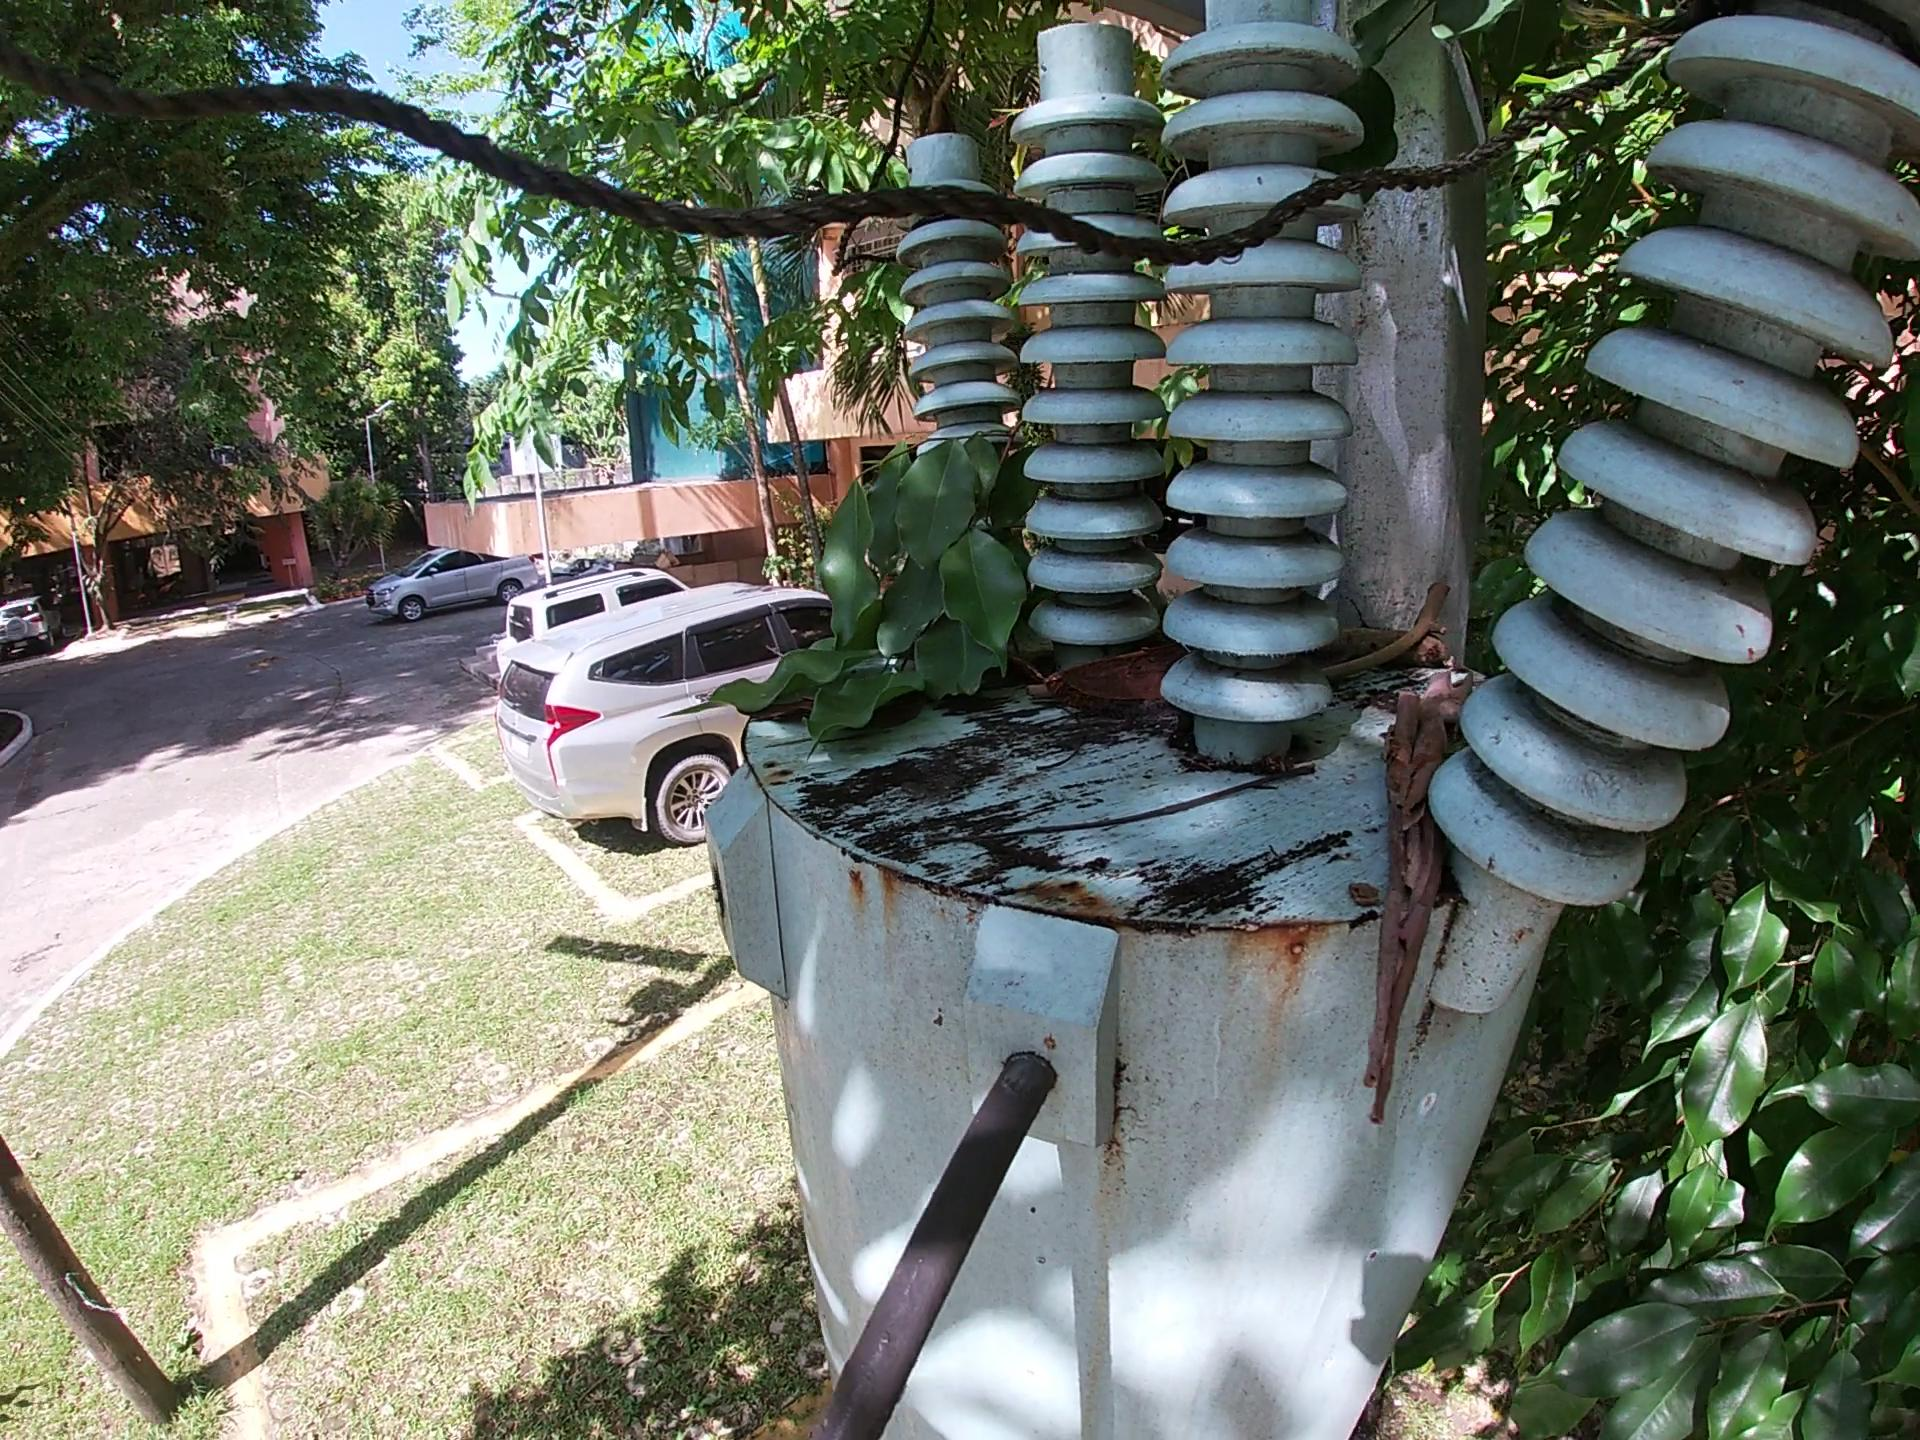branch with leaves: (653, 390, 1043, 753)
mahogany fruit: (1034, 658, 1194, 718), (751, 703, 813, 725)
tree branch: (1364, 653, 1463, 1150), (969, 768, 1326, 855), (1321, 585, 1471, 688), (1321, 625, 1471, 663), (1030, 706, 1076, 793), (1014, 679, 1058, 703)
